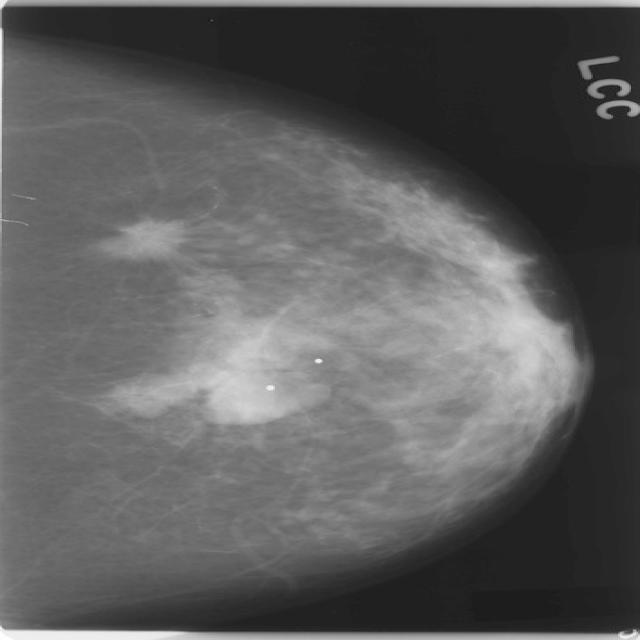tumour: (197, 370, 322, 423), (102, 215, 185, 258)
